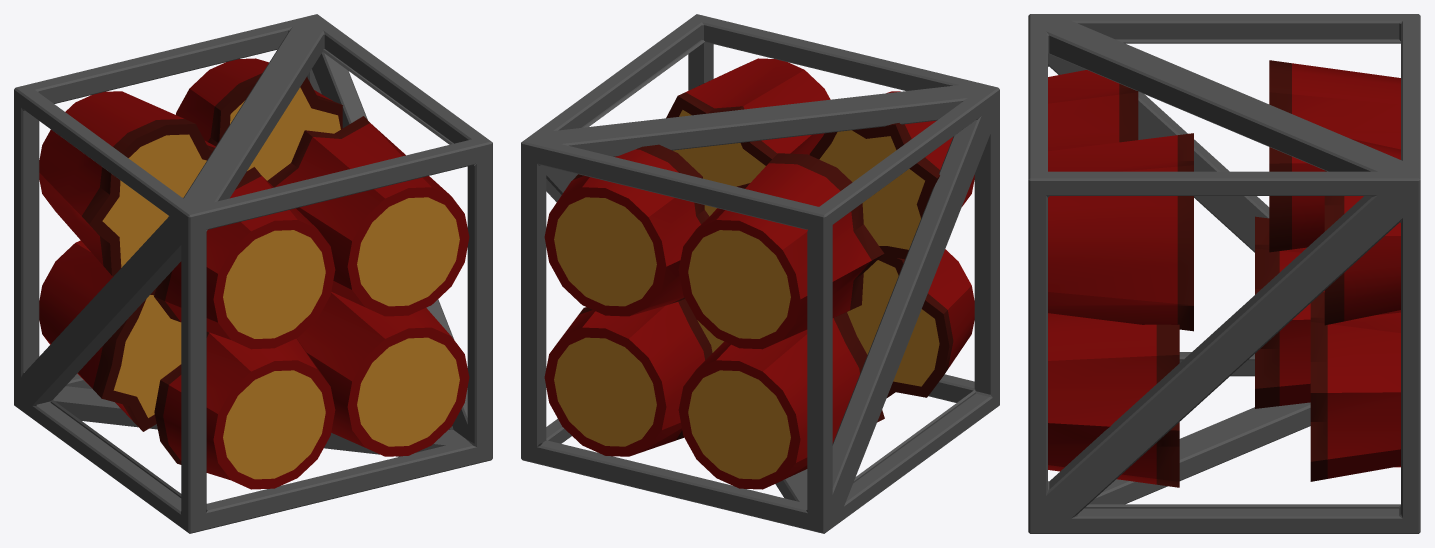
The model's file is RupturedWires.fbx.
3 renders of one model, left to right at view 1: azimuth 30°, elevation 25°; view 2: azimuth 150°, elevation 25°; view 3: azimuth 270°, elevation 25°, orthographic. The views are drawn at different scales.
Parts seen in each view (by area): view 1: Frame.001, Cable1.001, Cable2.002, Cable3.001, Cable4.001; view 2: Frame.001, Cable1.001, Cable2.002, Cable3.001, Cable4.001; view 3: Frame.001, Cable4.001, Cable3.001, Cable1.001, Cable2.002.
Part boxes in pixels (left/top/right/bottom): Frame.001: left=14, top=14, right=492, bottom=533; Cable1.001: left=39, top=91, right=335, bottom=349; Cable2.002: left=39, top=240, right=335, bottom=489; Cable3.001: left=176, top=58, right=469, bottom=316; Cable4.001: left=296, top=292, right=469, bottom=456; Frame.001: left=521, top=14, right=999, bottom=533; Cable1.001: left=678, top=91, right=974, bottom=349; Cable2.002: left=678, top=249, right=974, bottom=489; Cable3.001: left=544, top=58, right=830, bottom=316; Cable4.001: left=544, top=299, right=723, bottom=456; Frame.001: left=1028, top=14, right=1420, bottom=533; Cable4.001: left=1048, top=292, right=1400, bottom=487; Cable3.001: left=1048, top=133, right=1400, bottom=331; Cable1.001: left=1048, top=60, right=1400, bottom=252; Cable2.002: left=1255, top=216, right=1324, bottom=408.
Bounding box in the file's own units: 50 × 50 × 50.
